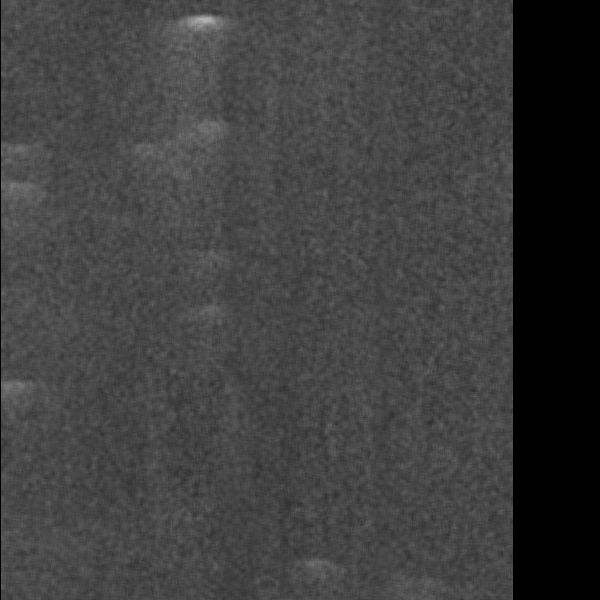spark: (358, 136, 407, 239), (360, 386, 410, 452), (266, 509, 315, 568), (93, 411, 132, 470), (466, 252, 508, 302), (146, 577, 205, 600), (112, 527, 134, 569)
